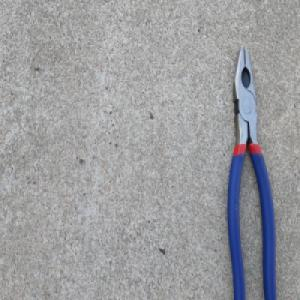Pliers: (226, 43, 278, 300)
